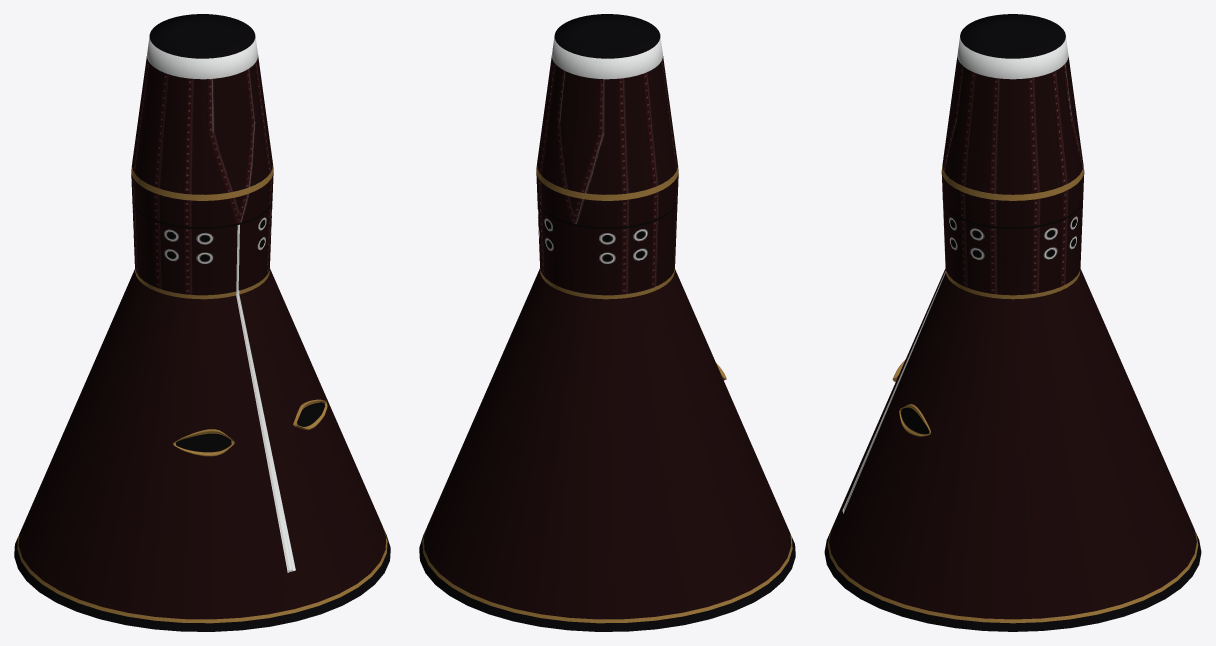
File: gemini-capsule.glb
The picture shows the model from 3 angles, left to right: view 1: azimuth 30°, elevation 25°; view 2: azimuth 150°, elevation 25°; view 3: azimuth 270°, elevation 25°; orthographic projection.
Parts seen in each view (by area): view 1: capsule; view 2: capsule; view 3: capsule.
Boxes of the visible parts, box(x1,y1,x2,y2) form: capsule: box(14, 14, 390, 631); capsule: box(419, 14, 795, 631); capsule: box(824, 14, 1201, 631).
Size of the model in its own units: 2.14 by 3.23 by 2.14.
1 material, 1 textured.
